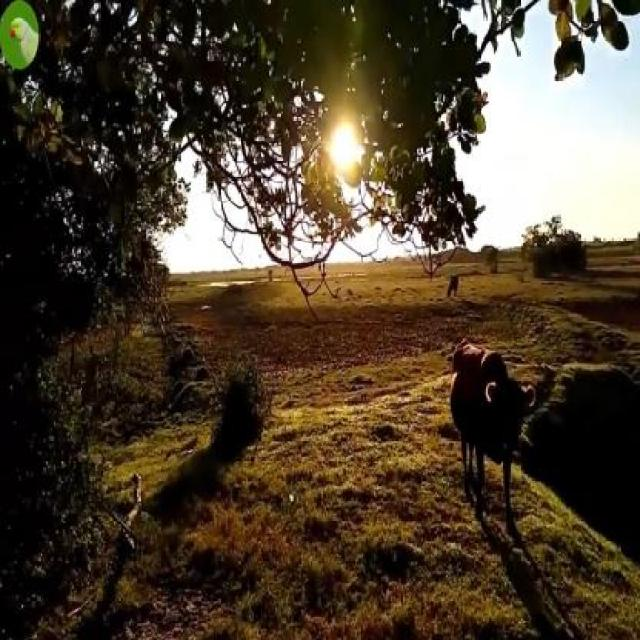Cow: (451, 340, 529, 540)
